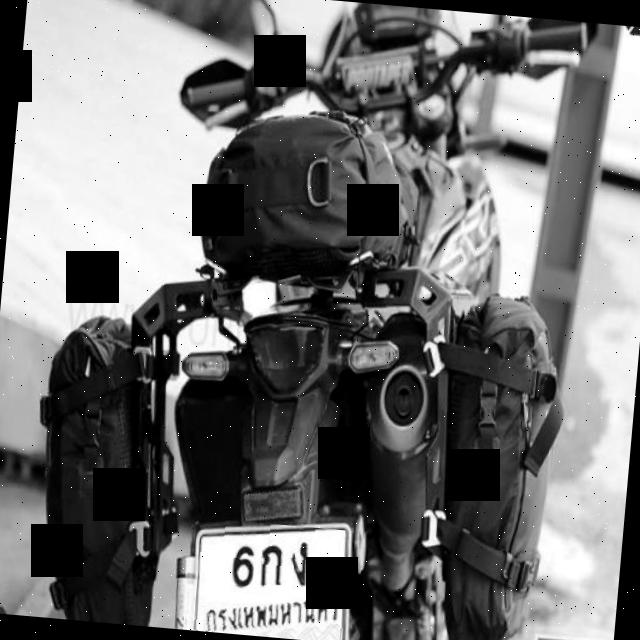letters: (220, 542, 259, 592), (260, 541, 288, 585), (291, 545, 313, 593)
license-plate: (196, 529, 345, 640)
province: (202, 599, 341, 633)
